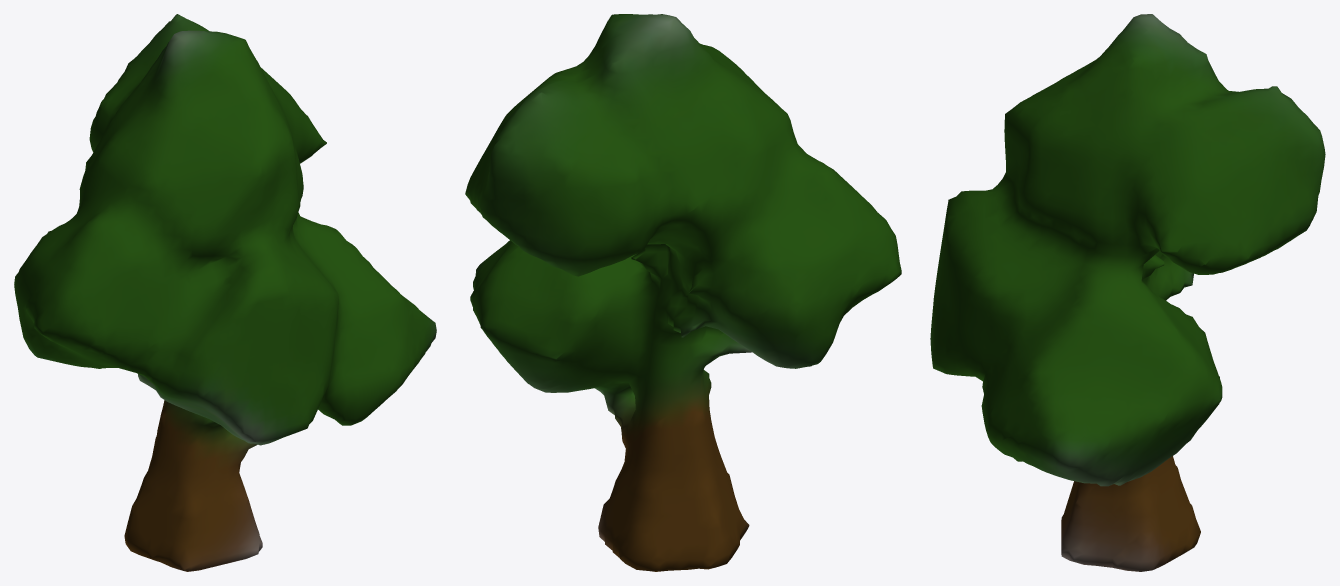
File: Blobbed_5.glb
3 views of the same model, side by side, from view 1: azimuth 30°, elevation 25°; view 2: azimuth 150°, elevation 25°; view 3: azimuth 270°, elevation 25° (orthographic). The views are drawn at different scales.
Visible parts, largest first — view 1: Blobbed_5; view 2: Blobbed_5; view 3: Blobbed_5.
Boxes of the visible parts, <box> form: Blobbed_5: <box>14,14,436,571</box>; Blobbed_5: <box>465,14,901,571</box>; Blobbed_5: <box>930,14,1325,571</box>.
Bounding box in the file's own units: 3.33 × 4.09 × 2.76.
